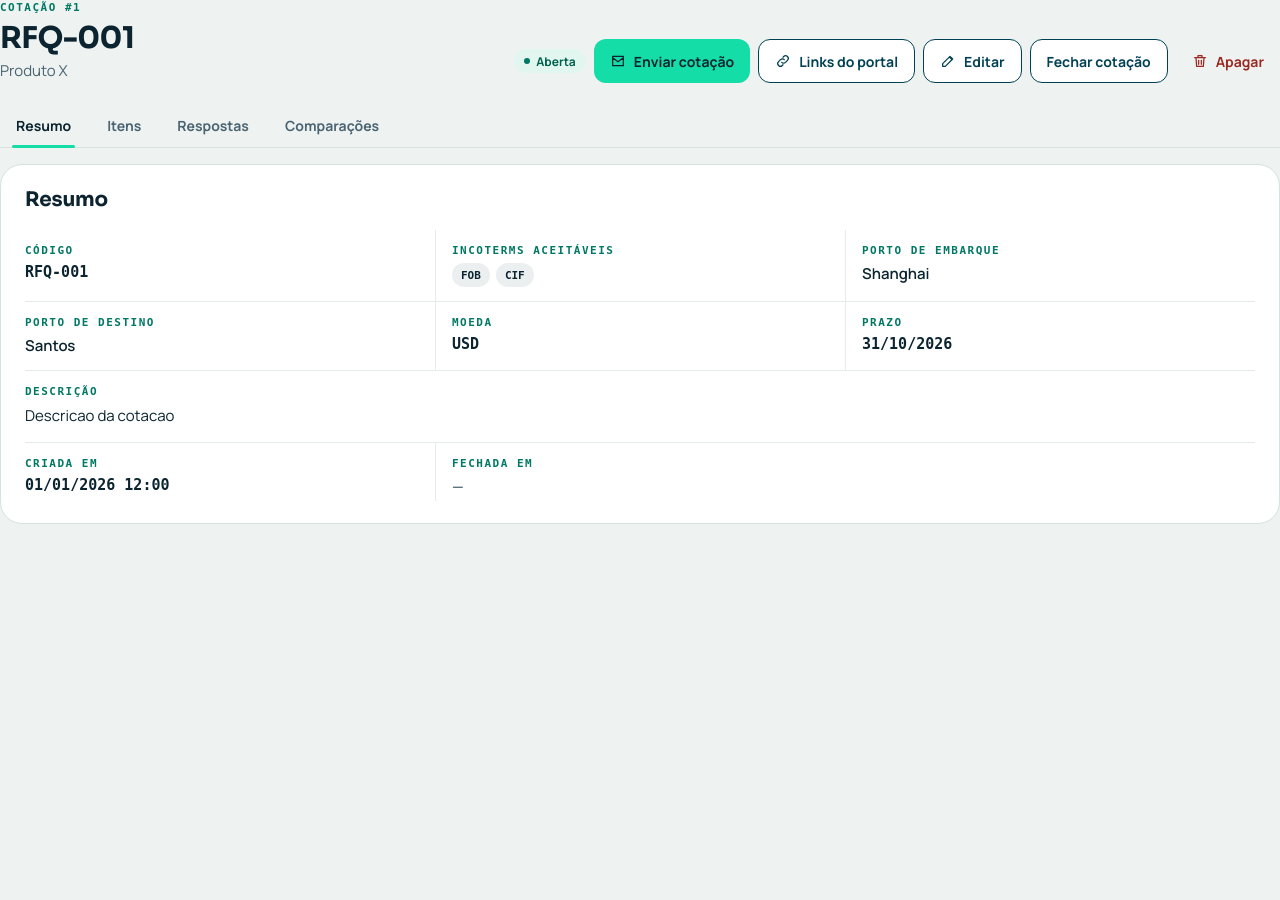
Test: CotacaoDetalhe (F6): Enviar cotação (3 passos) › subtitulo "código · produto" no cabecalho do modal e Stepper com o passo 1 atual
The image size is (1280, 900).
Expected: the heading "RFQ-001" is shown, x1=0 y1=20 x2=134 y2=55
Click the button "Enviar cotação".
click(672, 61)  # box x1=594 y1=39 x2=750 y2=83
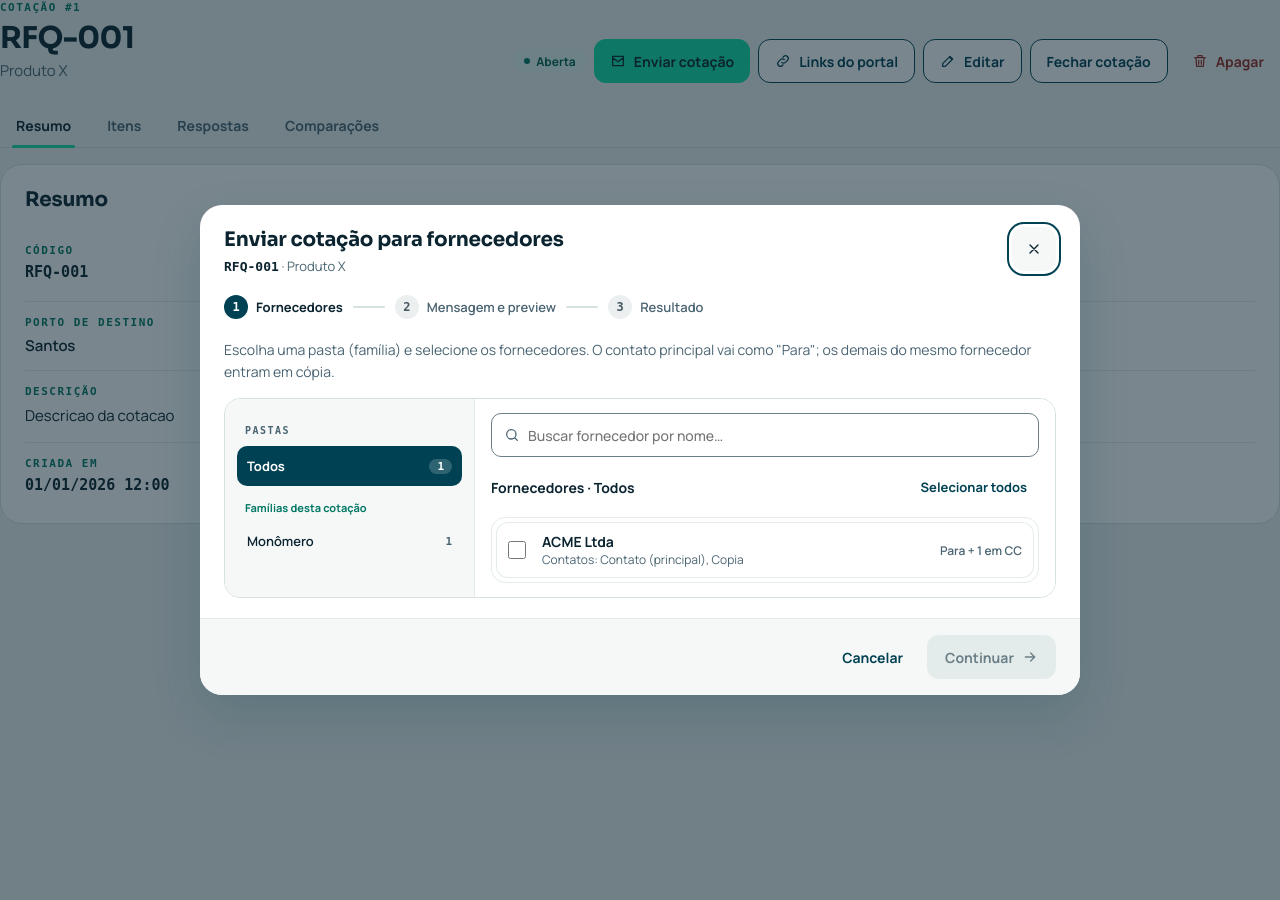
Expected: the element with class "modal-subtitle" reads "RFQ-001 · Produto X", x1=224 y1=257 x2=346 y2=275
Expected: the list item with class "stepper__passo" reads "1 Fornecedores", x1=224 y1=295 x2=343 y2=319
Expected: the element with class "dispatcher-list" is shown, x1=491 y1=517 x2=1039 y2=583
